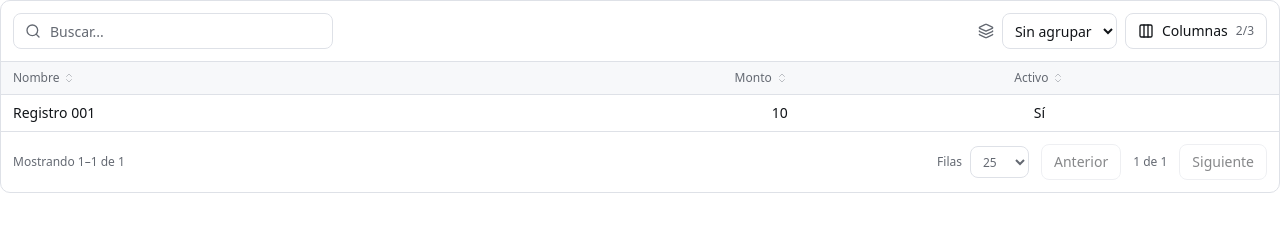
Test: agrupaciones › usa el singular con un solo registro
The width and height of the screenshot is (1280, 243).
Select "Activo" in the dropdown named "Agrupar por". click: (1059, 31)
box: [1002, 13, 1117, 49]
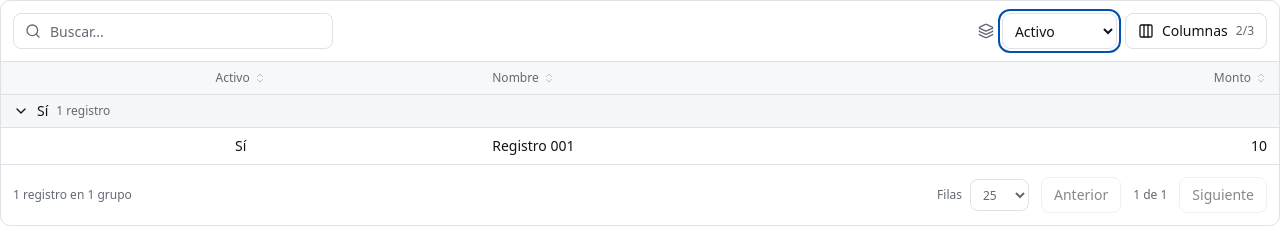
Expected: the button with aria-label "Grupo Sí, 1 registro" is shown, [13, 101, 110, 121]
